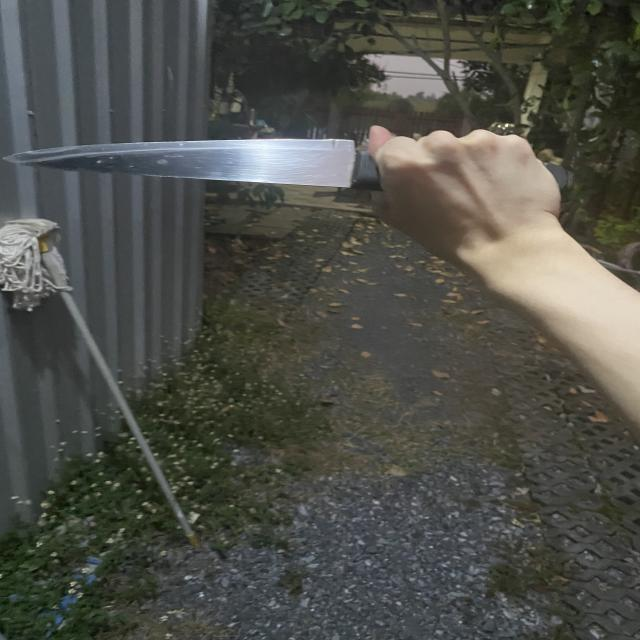faca: (0, 121, 601, 222)
